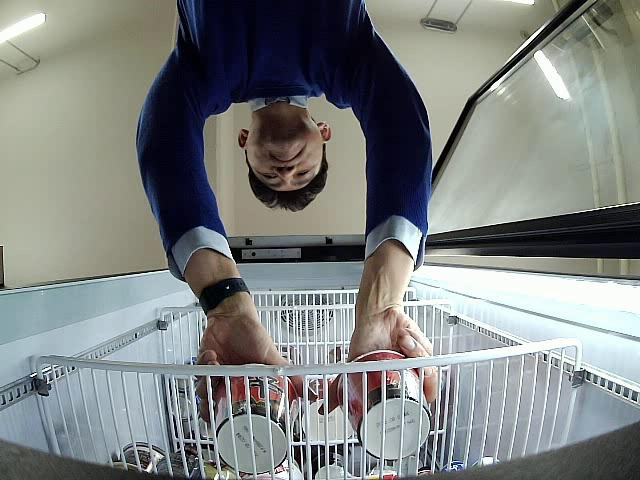00_hand: (319, 292, 437, 415), (195, 312, 316, 423)
02_shinRamen_S: (337, 351, 431, 460), (216, 366, 298, 474)
